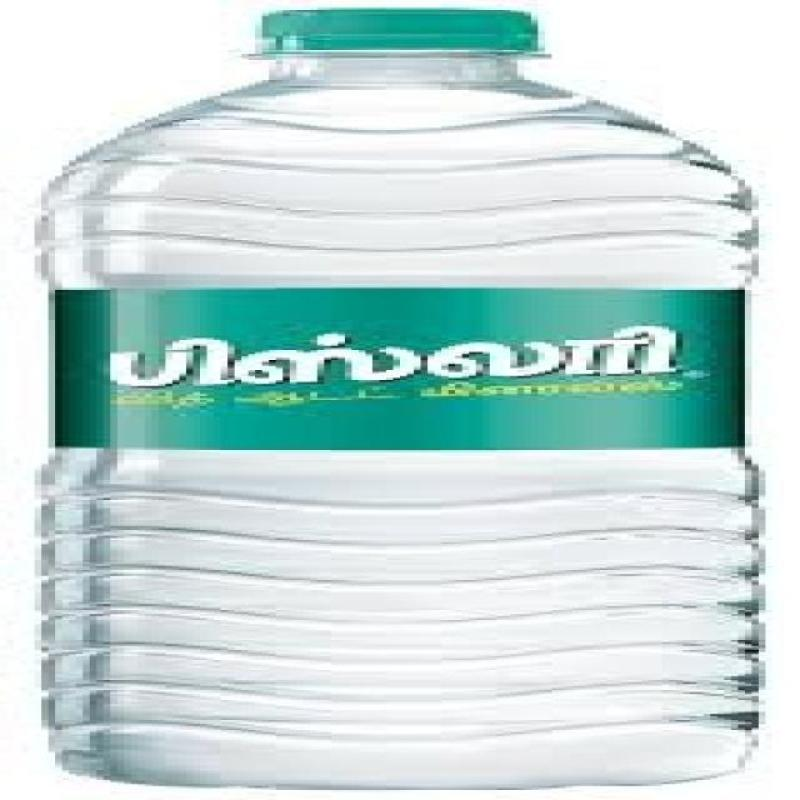botella: (24, 8, 755, 788)
